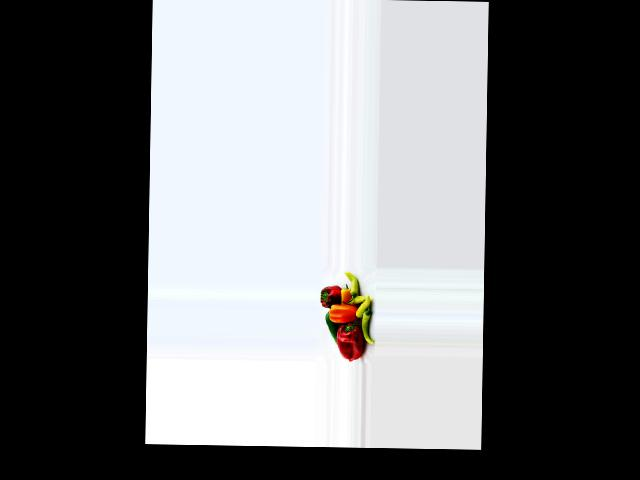bell_pepper: (361, 305, 374, 346)
